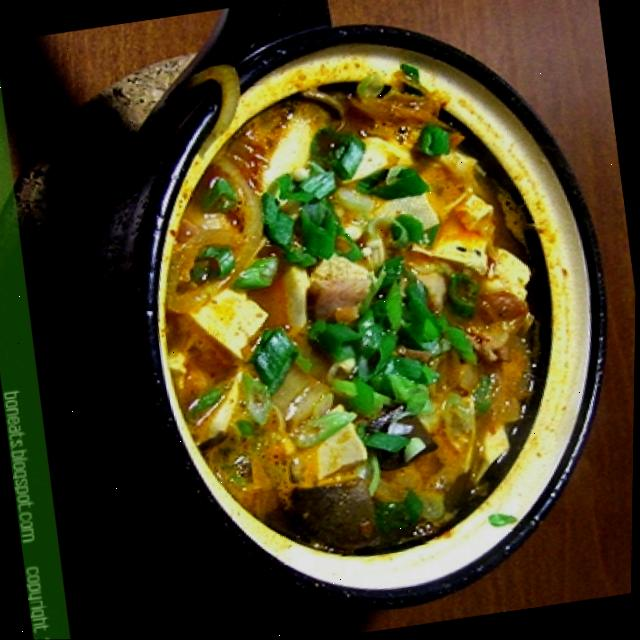汤锅炖物: (47, 0, 640, 640)
